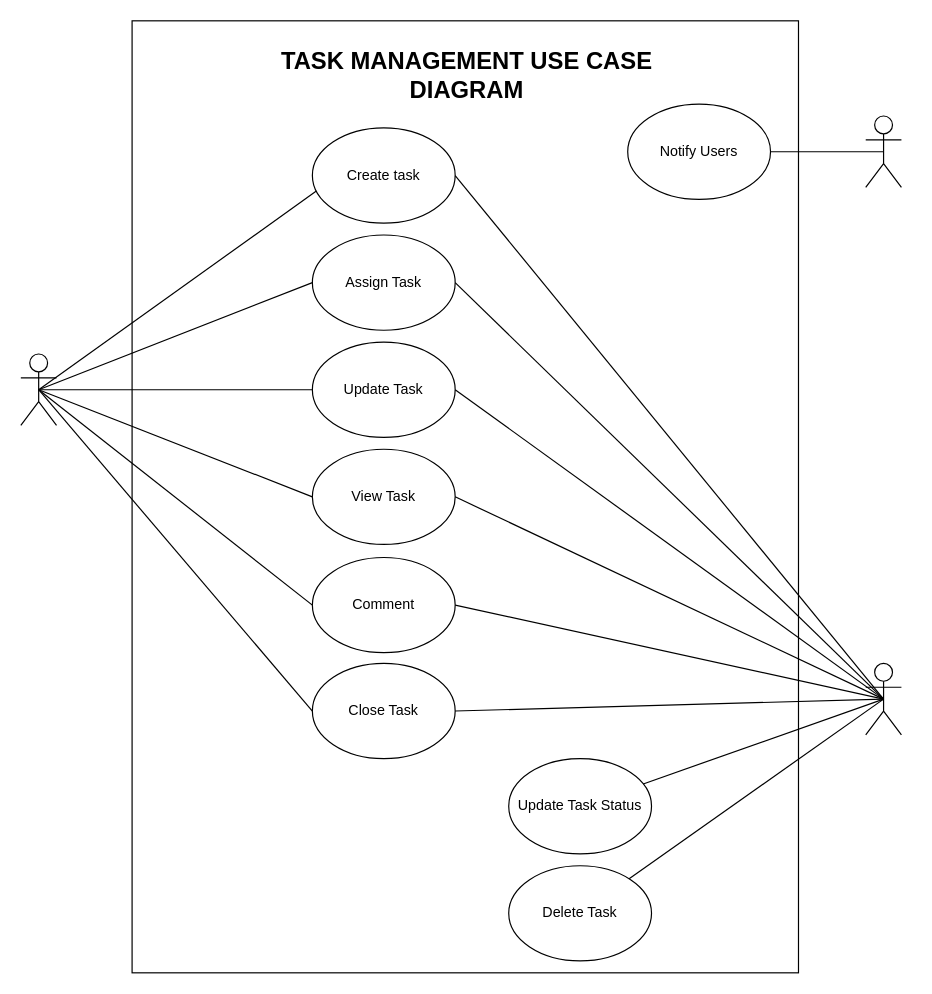
This 932x994 diagram has some shape labels left out. The shapes that lost their labels are listed below. From the top down, each one's box as (x1, y1, x2, y2) in pixels, then its label:
(865, 115, 901, 187): System
(20, 353, 57, 425): User
(865, 662, 901, 735): Manager
